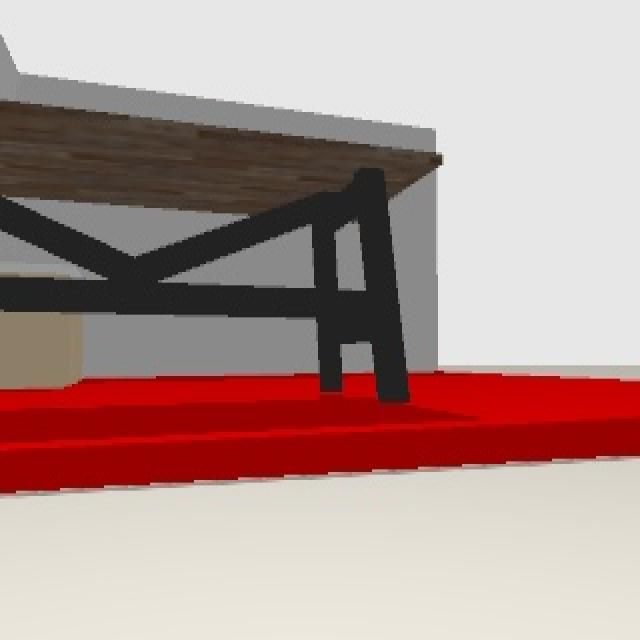dining: (1, 97, 442, 400)
